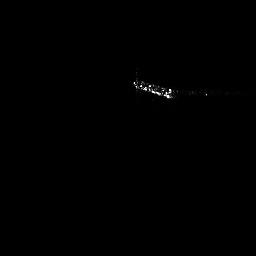ship: (132, 77, 208, 101)
